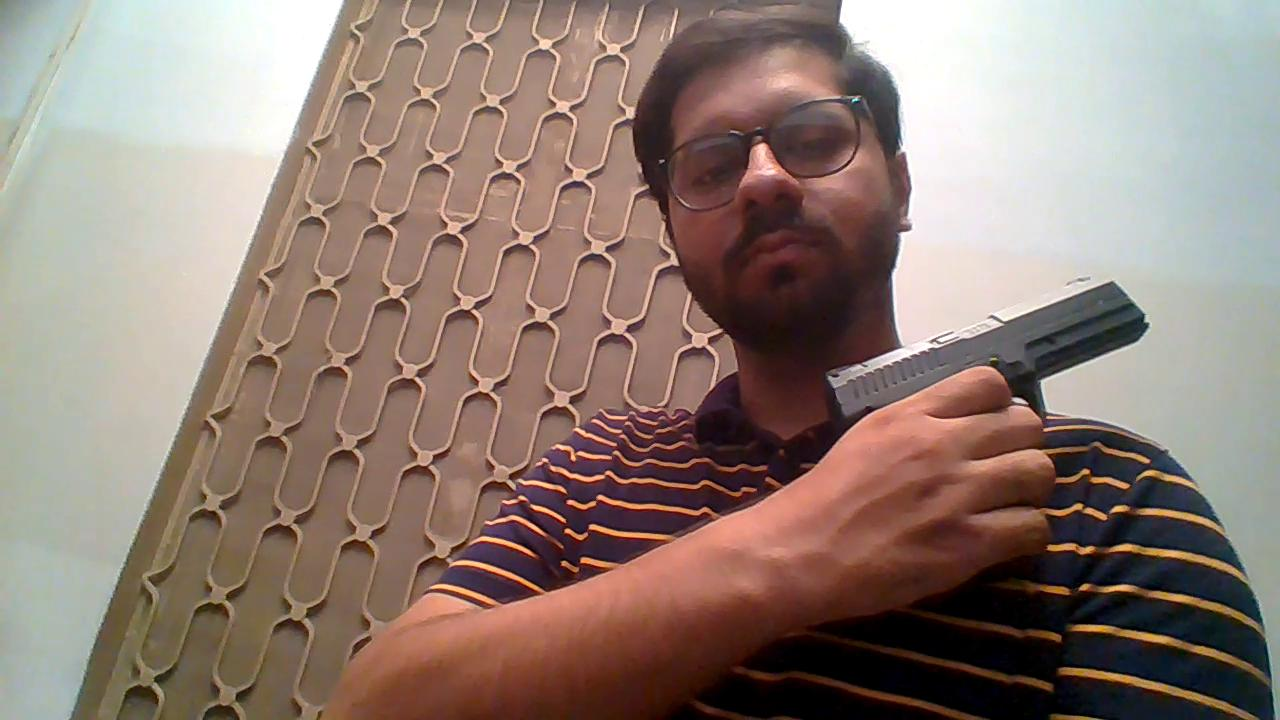criminal: (322, 5, 1276, 720)
weapon: (823, 275, 1151, 439)
